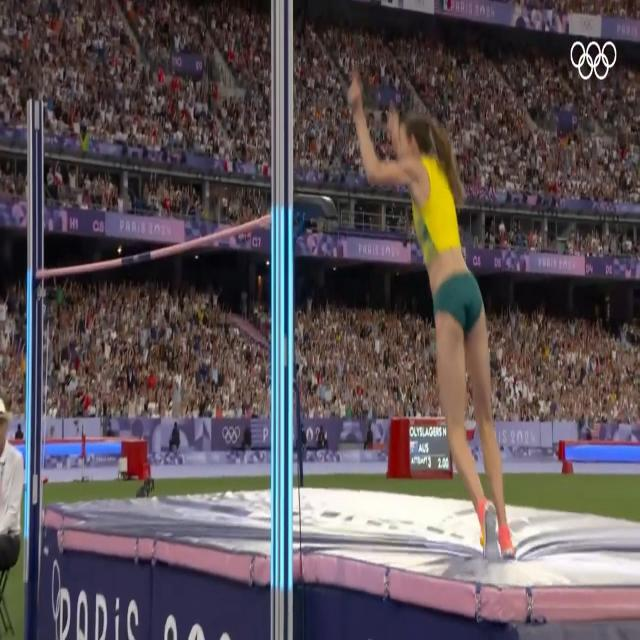land: (359, 117, 513, 559)
